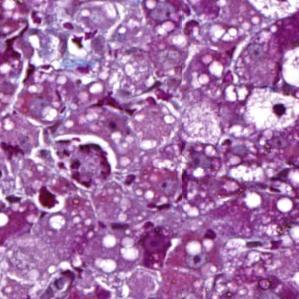ballooning: (244, 84, 296, 137)
